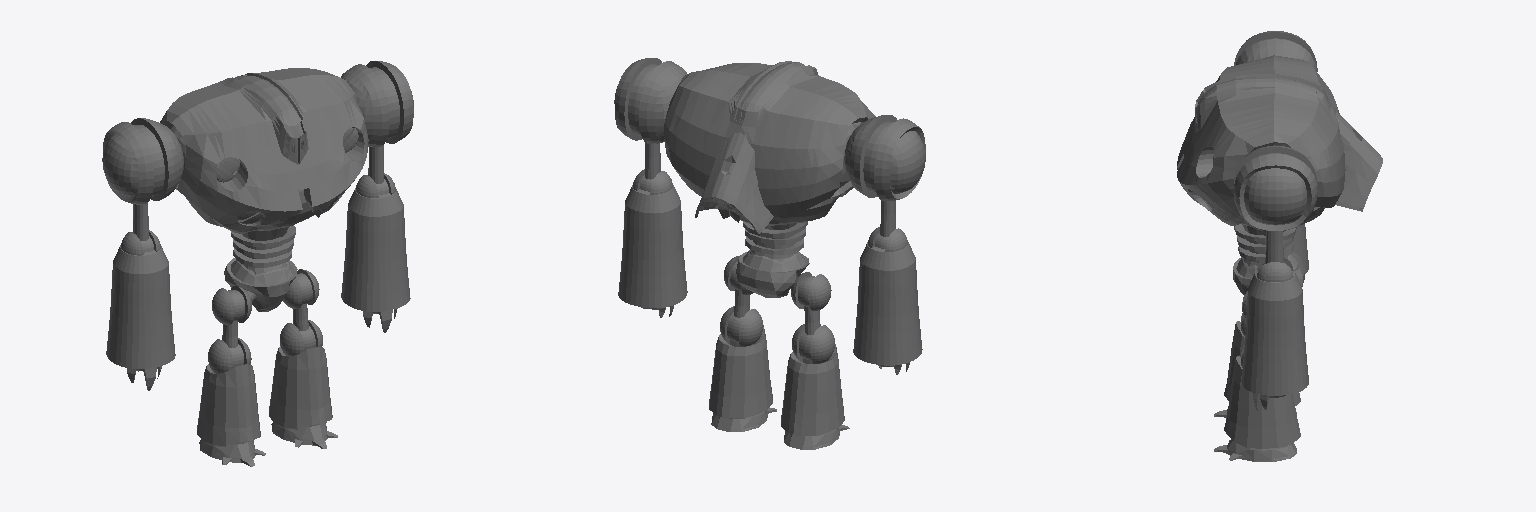
The model's file is SecondRobotUV.obj.
3 views of the same model, side by side, from view 1: azimuth 30°, elevation 25°; view 2: azimuth 150°, elevation 25°; view 3: azimuth 270°, elevation 25° (orthographic).
Visible parts, largest first — view 1: RobotTwo:RobotTwo:pCube2; view 2: RobotTwo:RobotTwo:pCube2; view 3: RobotTwo:RobotTwo:pCube2.
Boxes of the visible parts, x1=… form: RobotTwo:RobotTwo:pCube2: x1=102, y1=61, x2=413, y2=466; RobotTwo:RobotTwo:pCube2: x1=614, y1=58, x2=925, y2=449; RobotTwo:RobotTwo:pCube2: x1=1177, y1=31, x2=1382, y2=461.
Size of the model in its own units: 3.32 by 3.76 by 1.98.